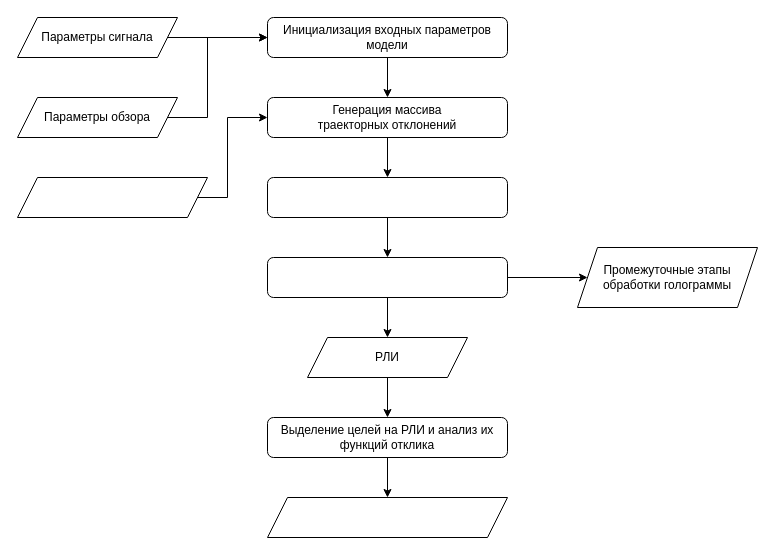
This 775x555 diagram has some shape labels left out. The box of each missing label's shape, as (x1, y1, x2, y2) in pixels:
Генерация голограммы: (266, 176, 508, 218)
Параметры траекторных отклонений: (16, 176, 208, 218)
Параметры функций отклика целей: (266, 496, 508, 538)
Синтез РЛИ алгоритмом ДДА без/с компенсацией ТН: (266, 256, 508, 298)
